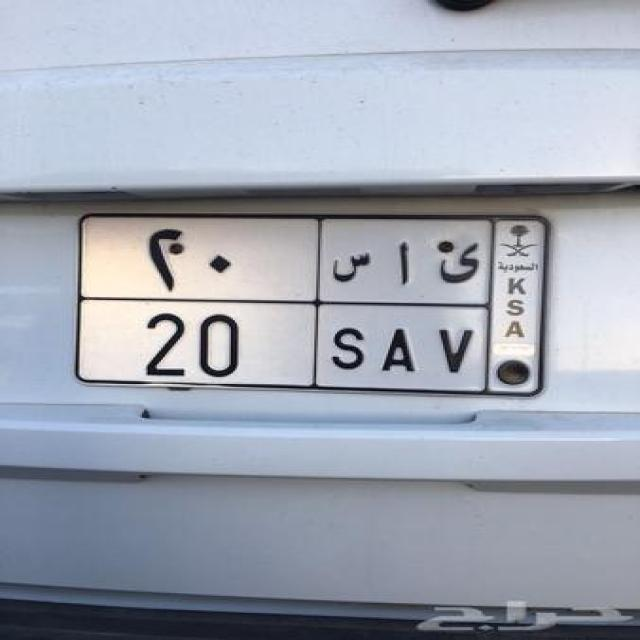license_plate: (70, 209, 555, 404)
